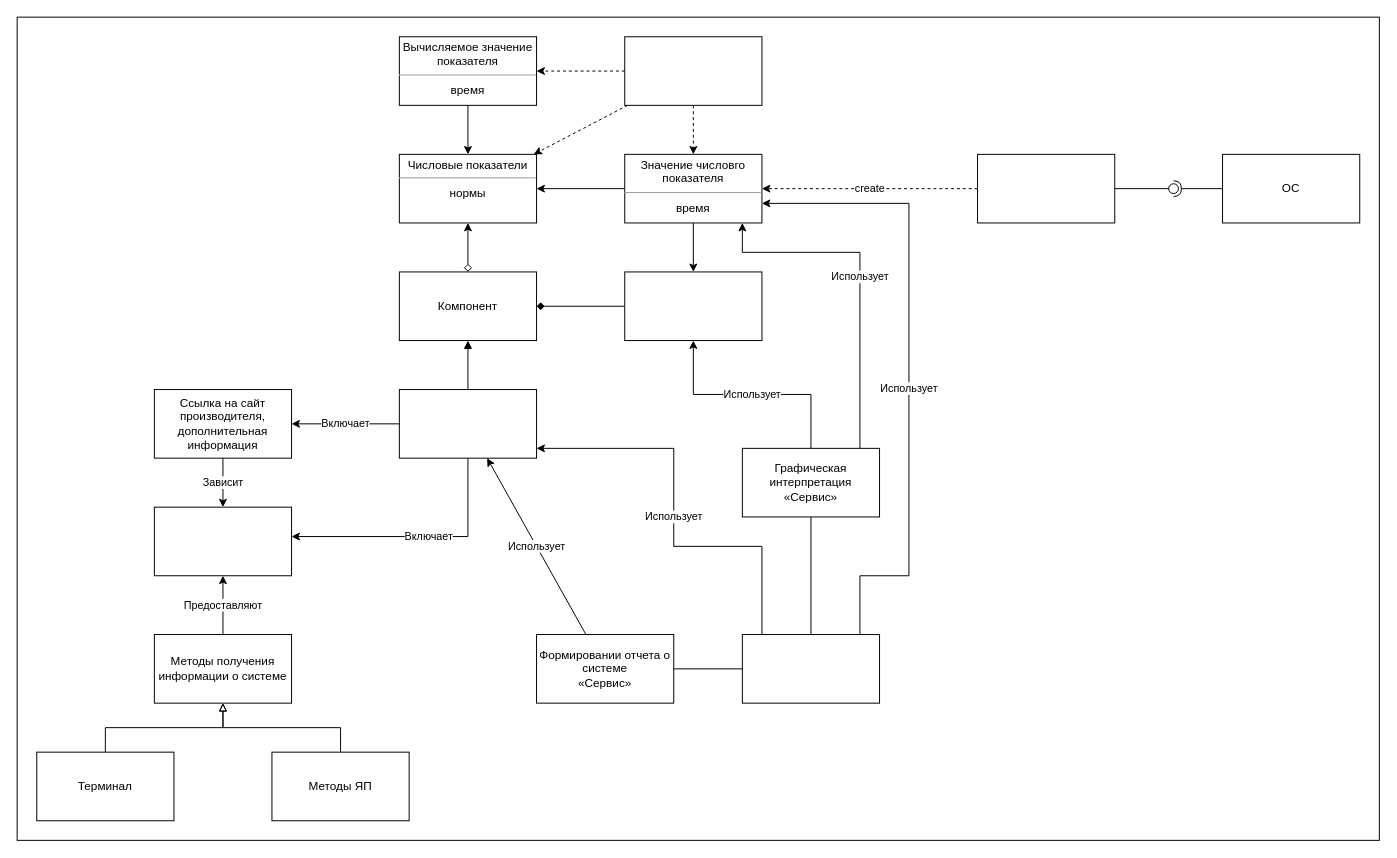
The diagram is 1397 pixels wide and 858 high, and some of its shapes have lost their labels. The box of each missing label's shape, as (x1, y1, x2, y2) in pixels:
Анализ «Сервис»: (624, 36, 762, 105)
Датчик: (624, 271, 762, 341)
Отображение сводных таблиц по числовым данным «Сервис»: (741, 634, 880, 703)
Системная информация: (153, 506, 292, 576)
Характеристики Значение: (398, 389, 537, 458)
Чтение «Сервис»: (977, 153, 1115, 223)
